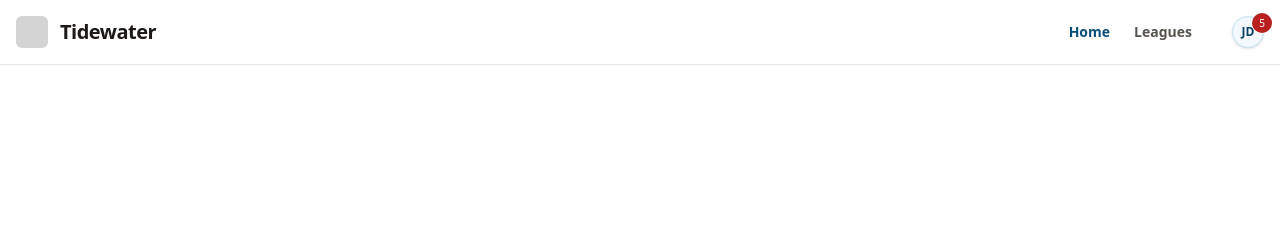
Test: Navbar mobile panel dismissal on navigation › closes the desktop user dropdown when a userMenuItem is clicked
Click the button named "user menu": click(1248, 32) [1232, 16, 1264, 48]
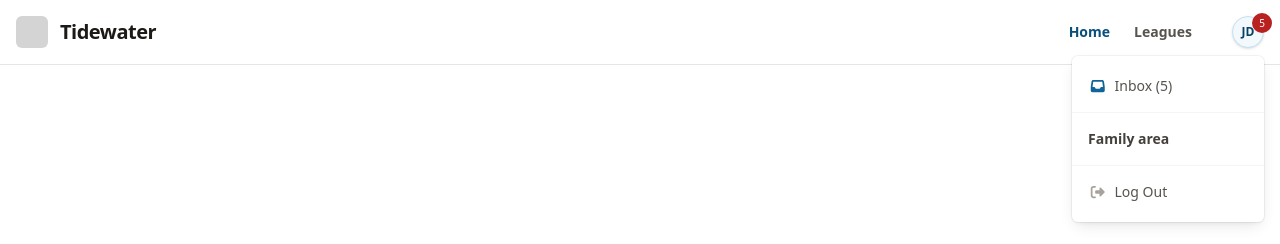
Click the menu item "Family area": click(1129, 138) [1088, 129, 1169, 148]
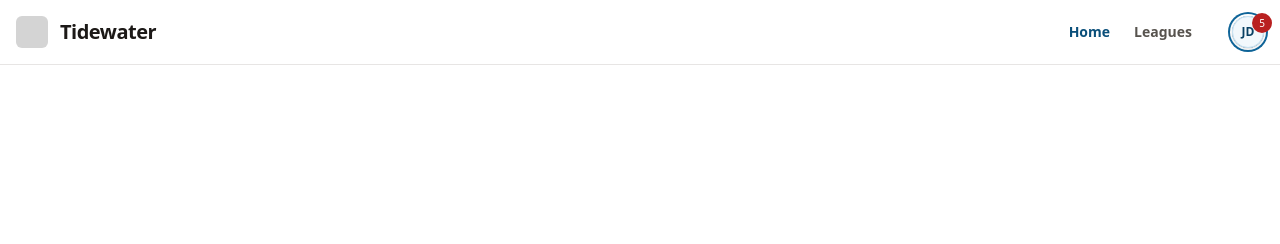
Result: the menu item "Family area" is gone
